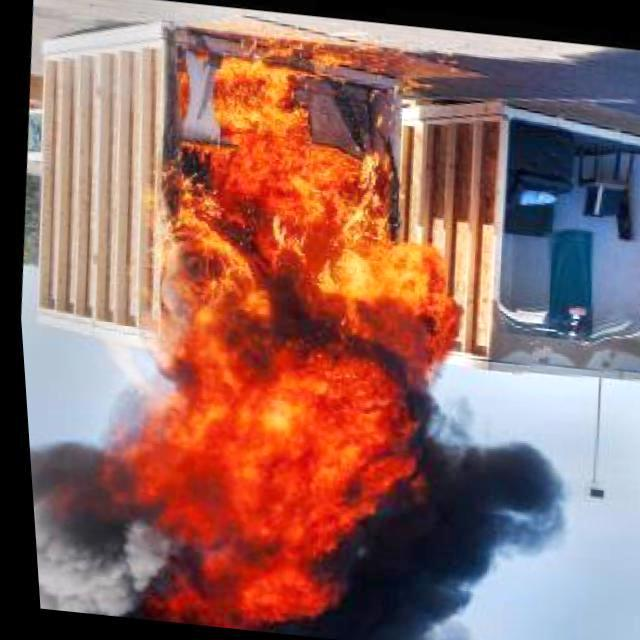fire: (90, 39, 494, 640), (382, 426, 582, 640), (22, 422, 152, 618)
